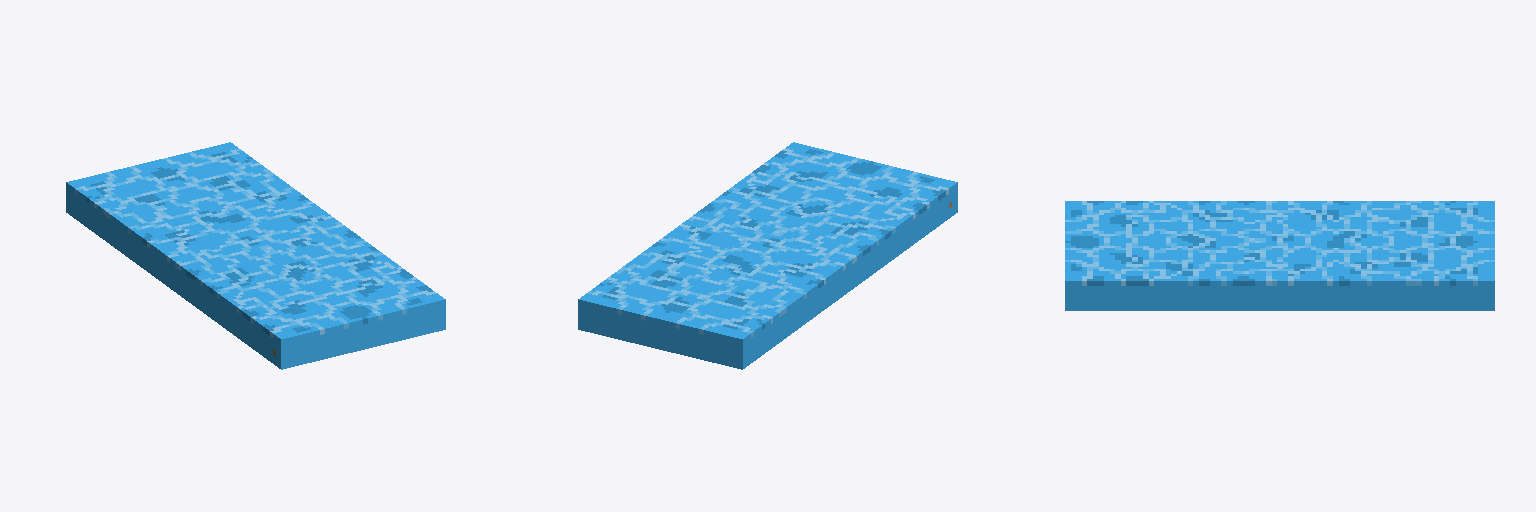
The picture shows the model from 3 angles: view 1: azimuth 30°, elevation 25°; view 2: azimuth 150°, elevation 25°; view 3: azimuth 270°, elevation 25°; orthographic projection.
Parts seen in each view (by area): view 1: object 1; view 2: object 1; view 3: object 1.
Boxes of the visible parts, <box> form: object 1: <box>66,142,445,369</box>; object 1: <box>578,142,957,369</box>; object 1: <box>1065,201,1494,310</box>.
Size of the model in its own units: 3.4 by 0.6 by 7.7.
Materials: 1 (1 with a texture image).